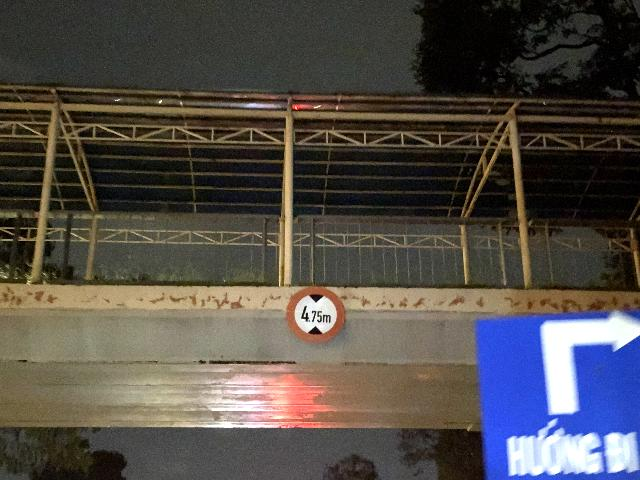han-che-chieu-cao: (285, 286, 343, 342)
